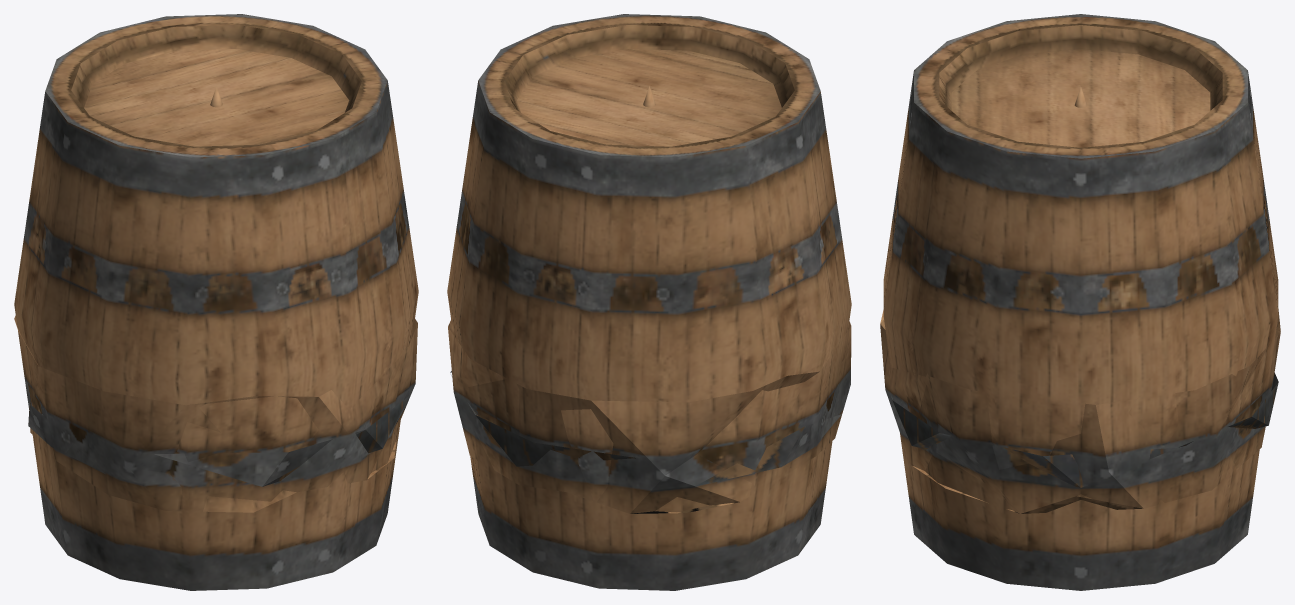
The model's file is barrel_lod0.glb.
The picture shows the model from 3 angles, left to right: view 1: azimuth 30°, elevation 25°; view 2: azimuth 150°, elevation 25°; view 3: azimuth 270°, elevation 25°; orthographic projection.
Parts seen in each view (by area): view 1: low; view 2: low; view 3: low.
Boxes of the visible parts, bbox=[...] form: low: bbox=[14, 14, 418, 590]; low: bbox=[447, 14, 851, 590]; low: bbox=[880, 14, 1280, 590].
Size of the model in its own units: 0.9033 by 1.07 by 0.8948.
Materials: 1 (1 with a texture image).
